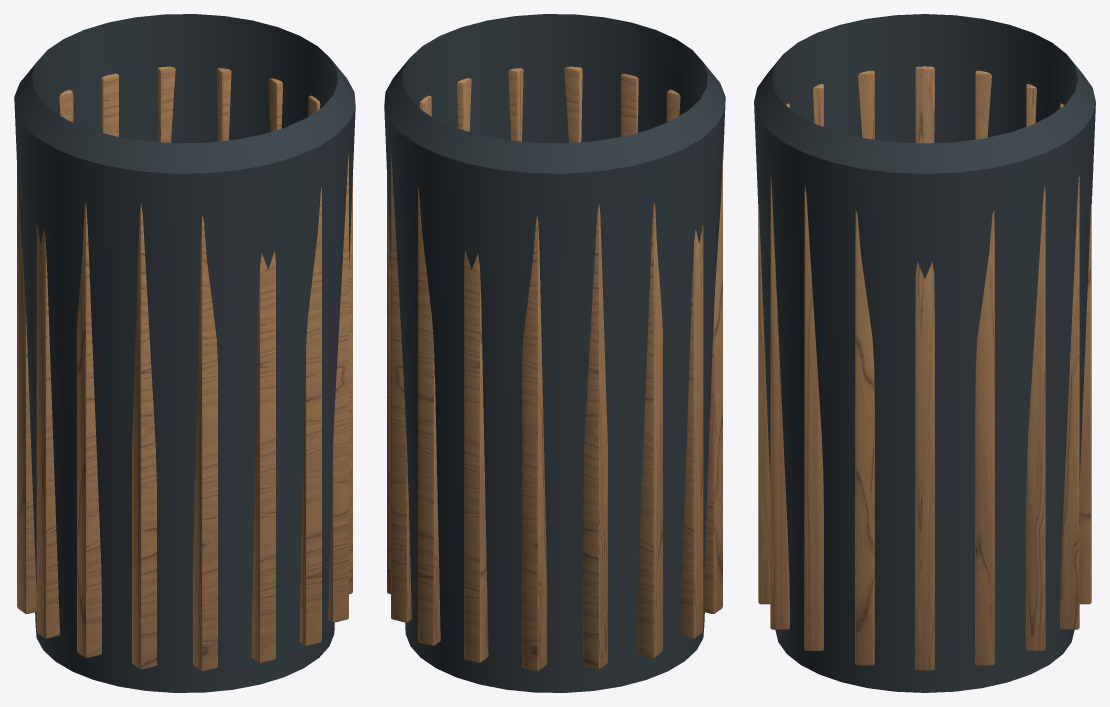
File: papelera_parque_base.glb
The picture shows the model from 3 angles, left to right: view 1: azimuth 30°, elevation 25°; view 2: azimuth 150°, elevation 25°; view 3: azimuth 270°, elevation 25°; orthographic projection.
Visible parts, largest first — view 1: papelera_parque_base; view 2: papelera_parque_base; view 3: papelera_parque_base.
Boxes of the visible parts, x1=… form: papelera_parque_base: x1=14, y1=14, x2=355, y2=692; papelera_parque_base: x1=384, y1=14, x2=725, y2=692; papelera_parque_base: x1=754, y1=14, x2=1095, y2=692.
Size of the model in its own units: 0.432 by 0.768 by 0.432.
2 materials, 1 textured.
